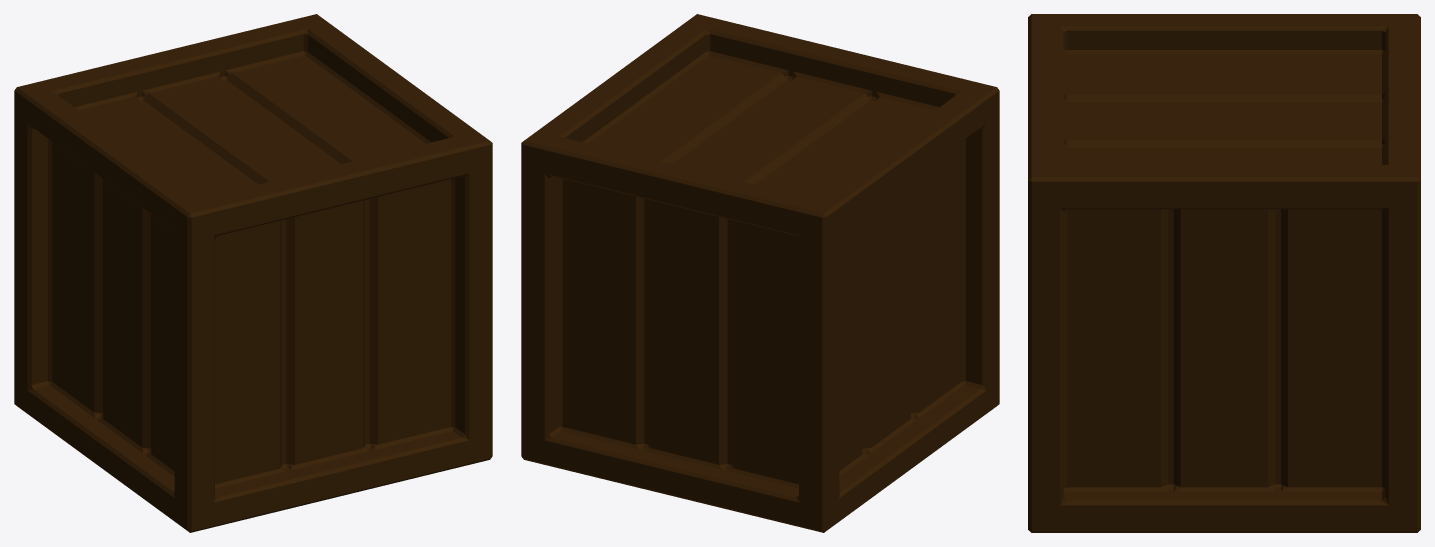
File: CrateOffset.fbx
The picture shows the model from 3 angles, left to right: view 1: azimuth 30°, elevation 25°; view 2: azimuth 150°, elevation 25°; view 3: azimuth 270°, elevation 25°; orthographic projection. The views are drawn at different scales.
Visible parts, largest first — view 1: NewCrate; view 2: NewCrate; view 3: NewCrate.
Boxes of the visible parts, x1,y1,x2,y2 form: NewCrate: (14, 14, 492, 532); NewCrate: (521, 14, 999, 532); NewCrate: (1028, 14, 1420, 532).
Size of the model in its own units: 200 by 200 by 200.
